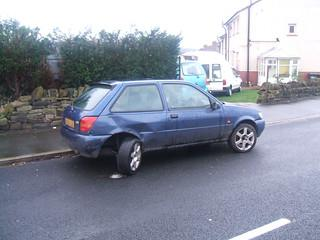quaterpanel-dent: (88, 114, 165, 143)
